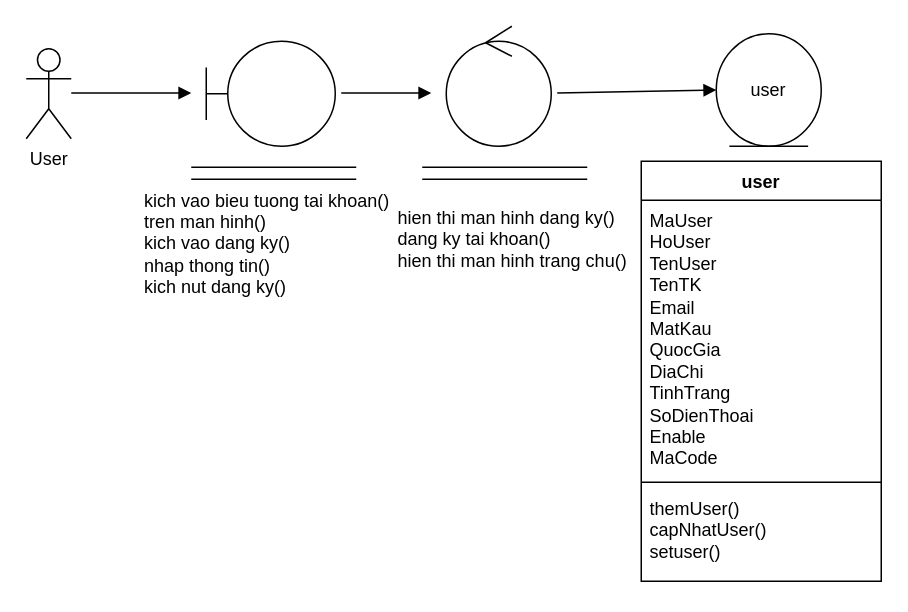
This 908x612 diagram has some shape labels left out. The shapes that lost their labels are listed below. From the top down, each one's centre as x and y in pixels, then its label:
At (270,93): "DangKyUI".
At (498,85): "DangKy Controller".
